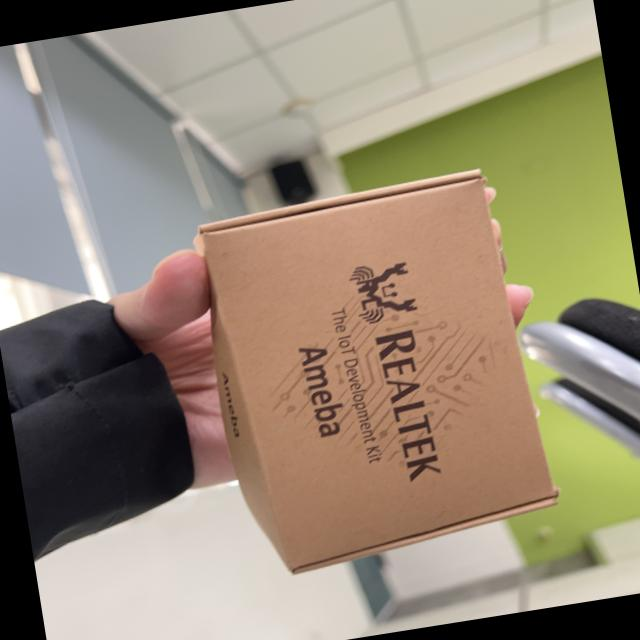box: (170, 152, 600, 595)
